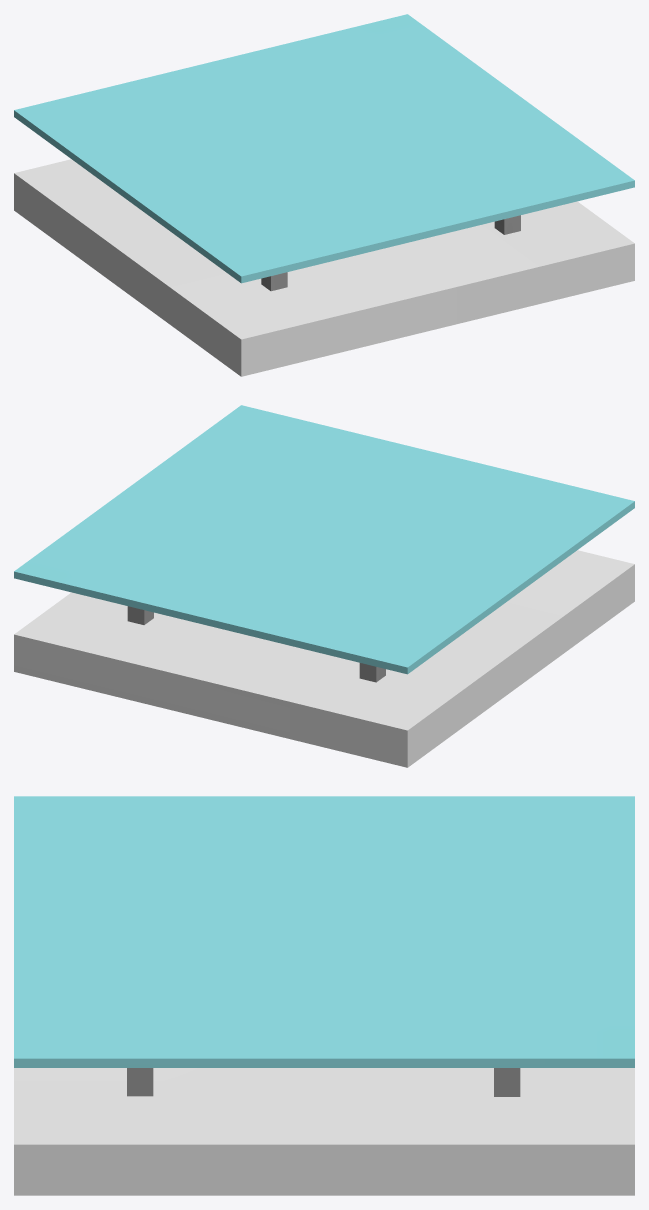
File: coffee_table_005.glb
The picture shows the model from 3 angles, top to bottom: view 1: azimuth 30°, elevation 25°; view 2: azimuth 150°, elevation 25°; view 3: azimuth 270°, elevation 25°; orthographic projection. The views are drawn at different scales.
Parts seen in each view (by area): view 1: coffee_table_005; view 2: coffee_table_005; view 3: coffee_table_005.
Boxes of the visible parts, <box> form: coffee_table_005: <box>14,14,634,376</box>; coffee_table_005: <box>14,405,634,767</box>; coffee_table_005: <box>14,796,634,1195</box>.
Bounding box in the file's own units: 0.9297 × 0.2829 × 0.9297.
1 material, 1 textured.
